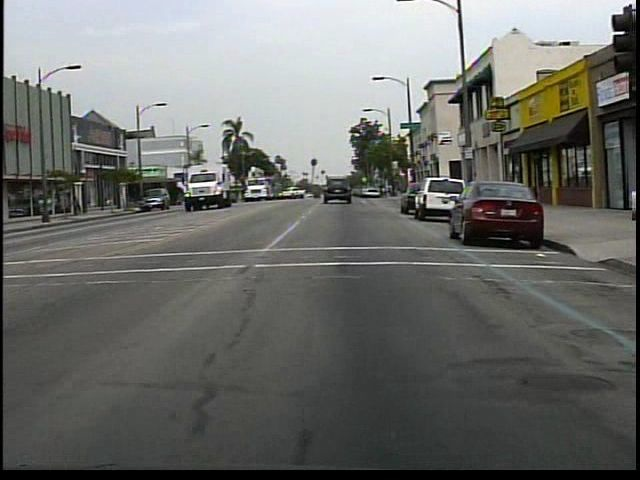person: (74, 192, 84, 217)
